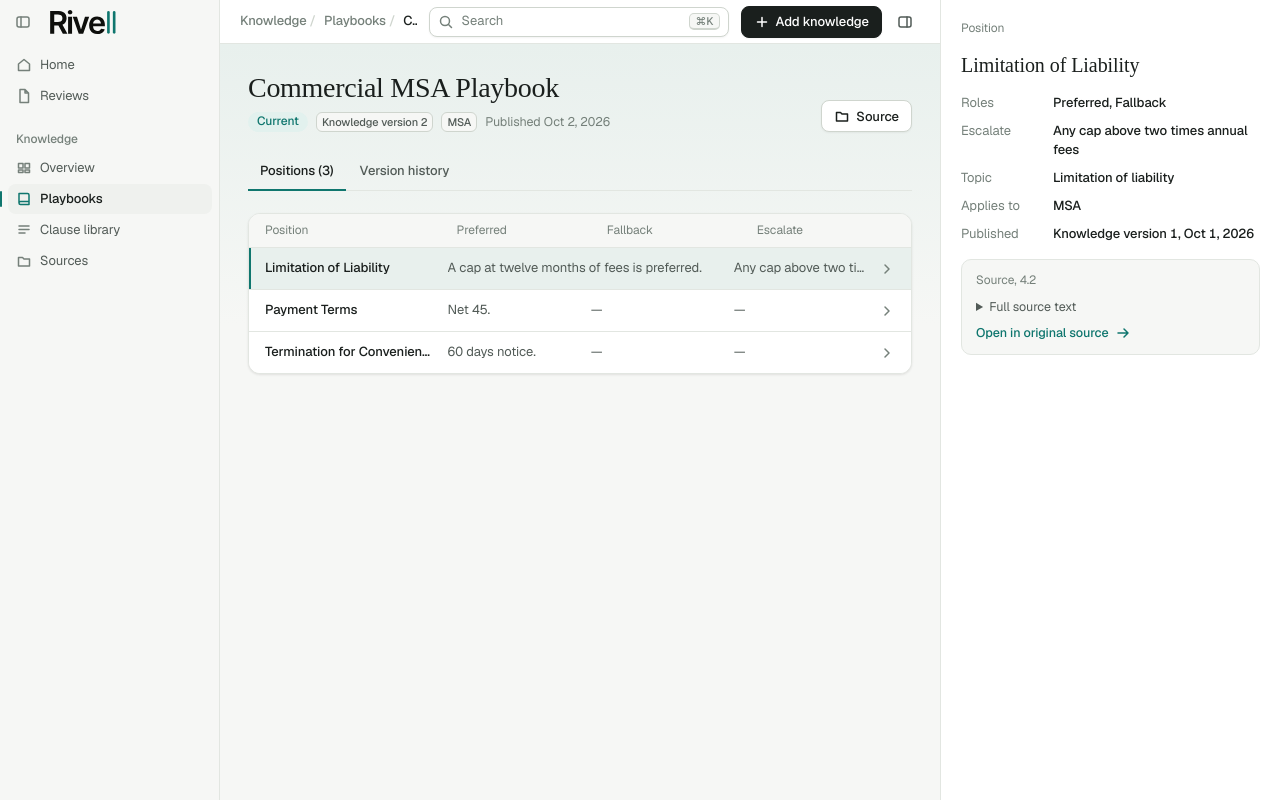
Scenario: Playbook detail › lists real publications in version history, newest first, with what each changed
Expected: the heading "Commercial MSA Playbook" is shown, [248,72,610,104]
Click the tab "Version history": (404,173) [348,154,461,191]
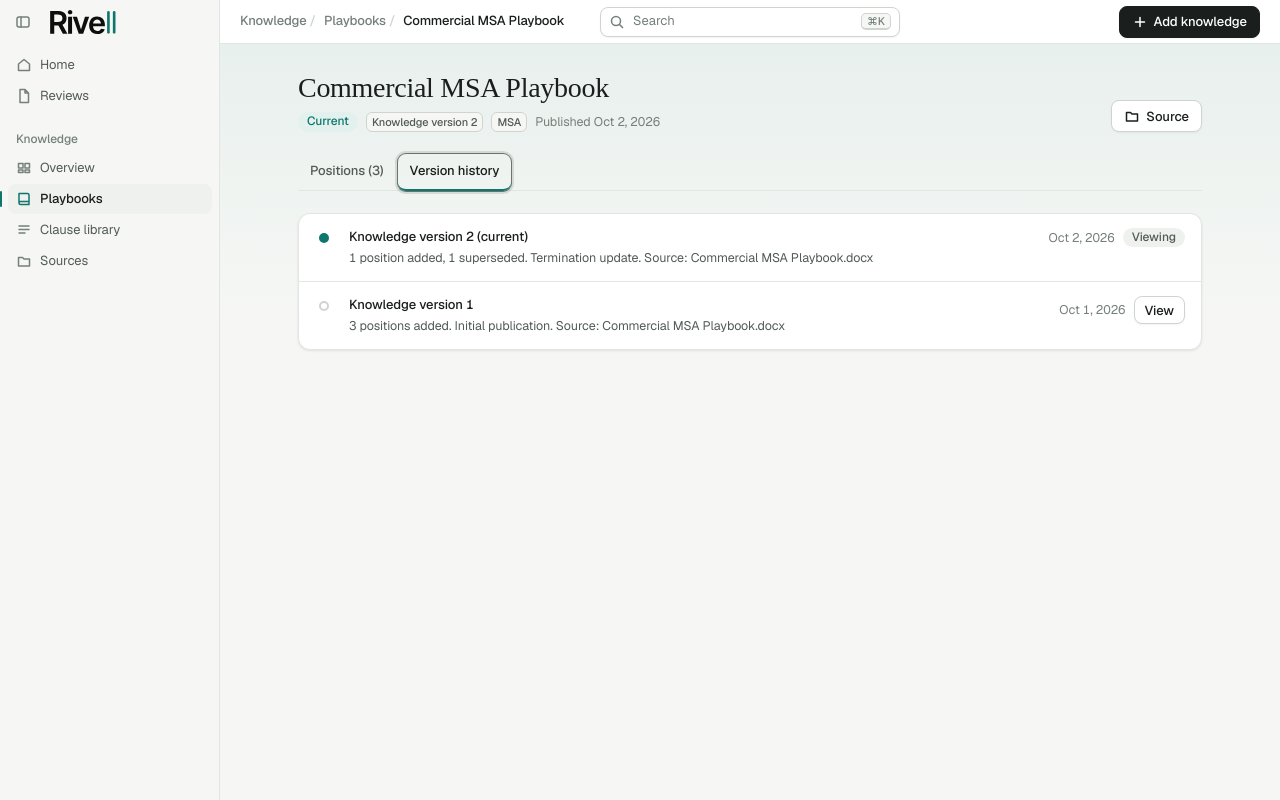
Expected: the number of list items is 2, [319,228,1185,266]; [299,281,1201,349]
Expected: the 1st list item shows "Knowledge version 2 (current)", [319,228,1185,266]
Expected: the 1st list item shows "1 superseded", [349,249,638,266]
